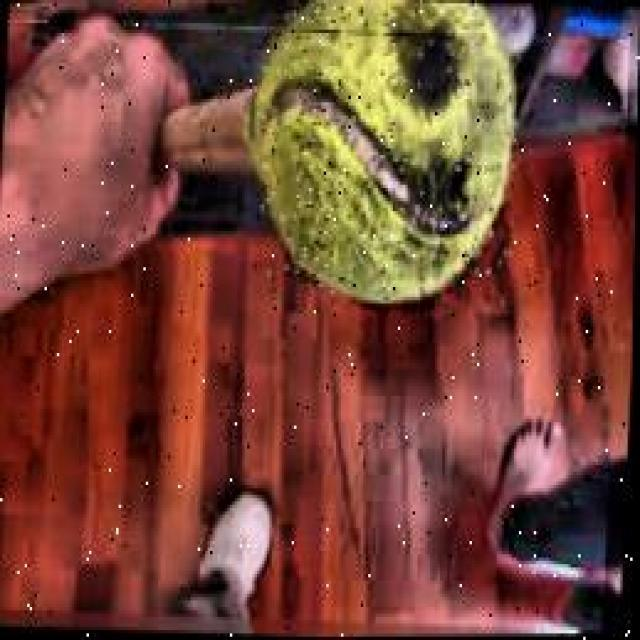tennis-ball: (252, 0, 529, 313)
